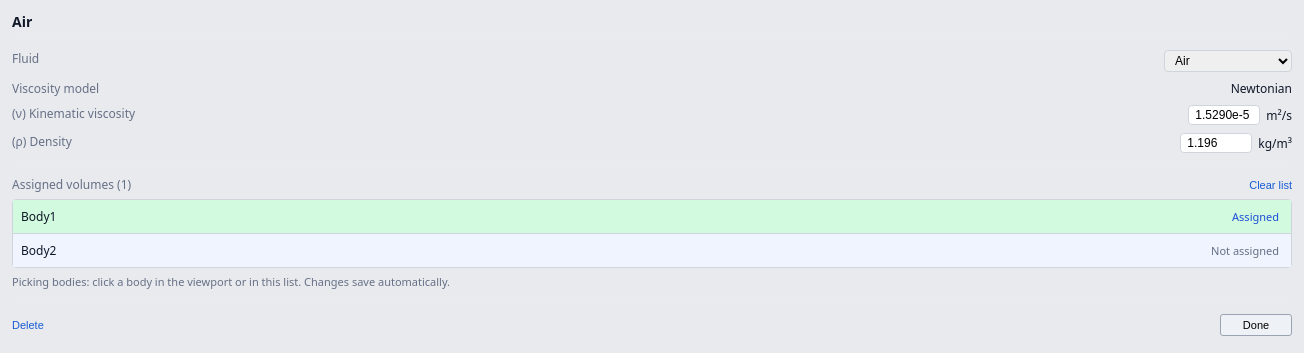
MaterialsPanel › a save refused as stale shows the saved fluid, says so, and drops the edit queued behind it (C2)
This screenshot has width=1304, height=353.
Replace the text in the field named "Kinematic viscosity" with "2e-5" at (1224,115), box [1188, 105, 1260, 125]
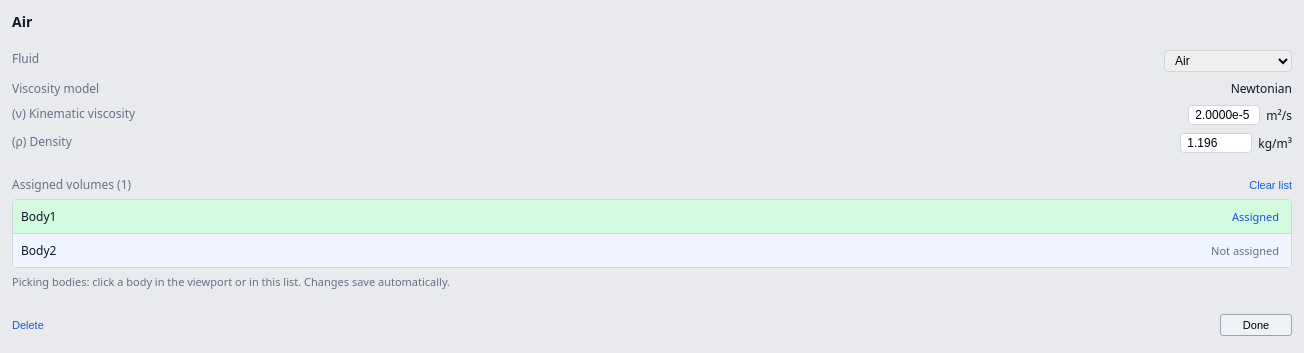
// A second edit, queued behind the first save.
Click the button "Body2" at (39,250), box [21, 236, 1205, 265]
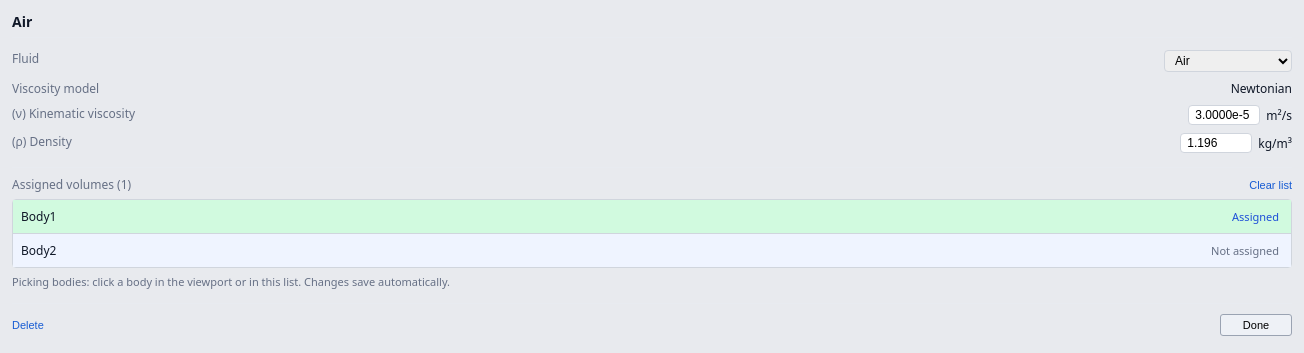
Expected: the text "Assigned volumes (1)" is shown, [12, 176, 131, 193]
Expected: the field named "Kinematic viscosity" holds "3.0000e-5", [1188, 105, 1260, 125]
